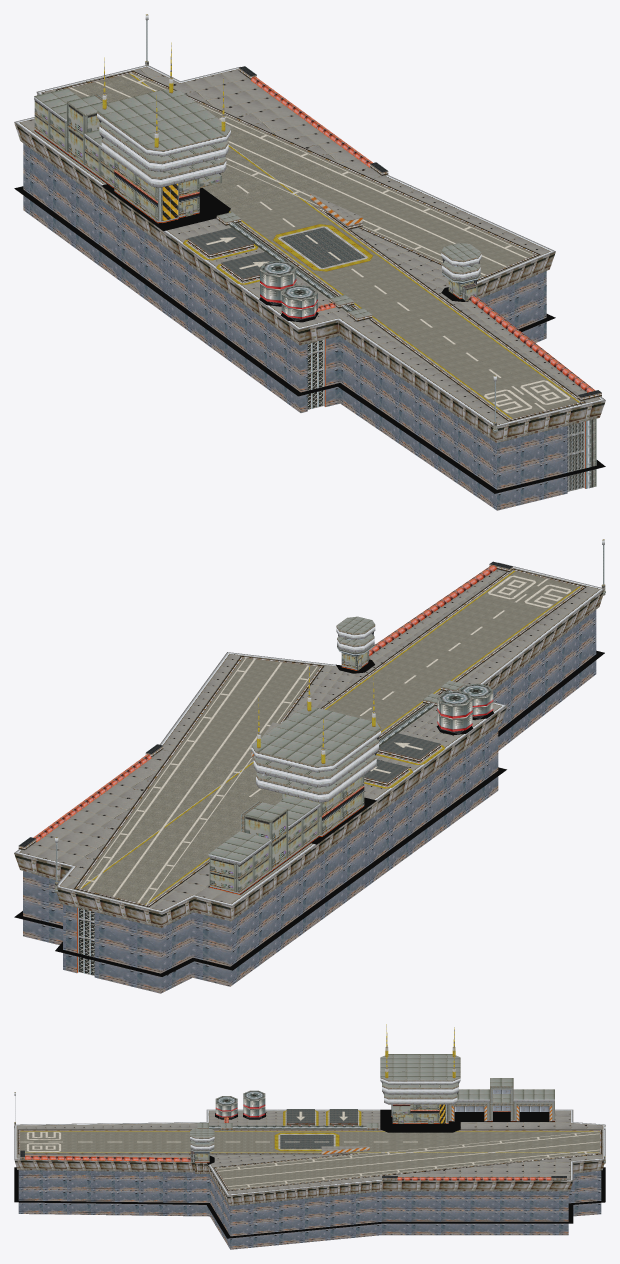
The model's file is WeaponsBed2P.obj.
3 renders of one model, top to bottom at view 1: azimuth 30°, elevation 25°; view 2: azimuth 150°, elevation 25°; view 3: azimuth 270°, elevation 25°, orthographic. The views are drawn at different scales.
Bounding box in the file's own units: 716 × 534 × 2002.
36 materials, 36 textured.
